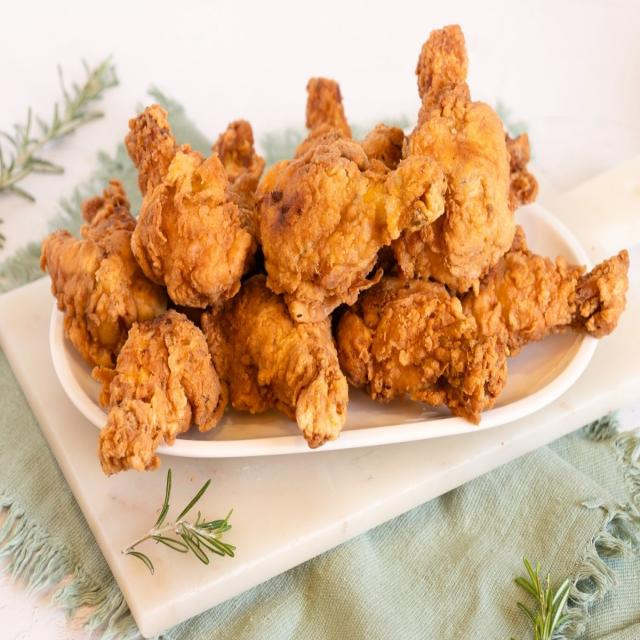pollo: (45, 36, 640, 482)
